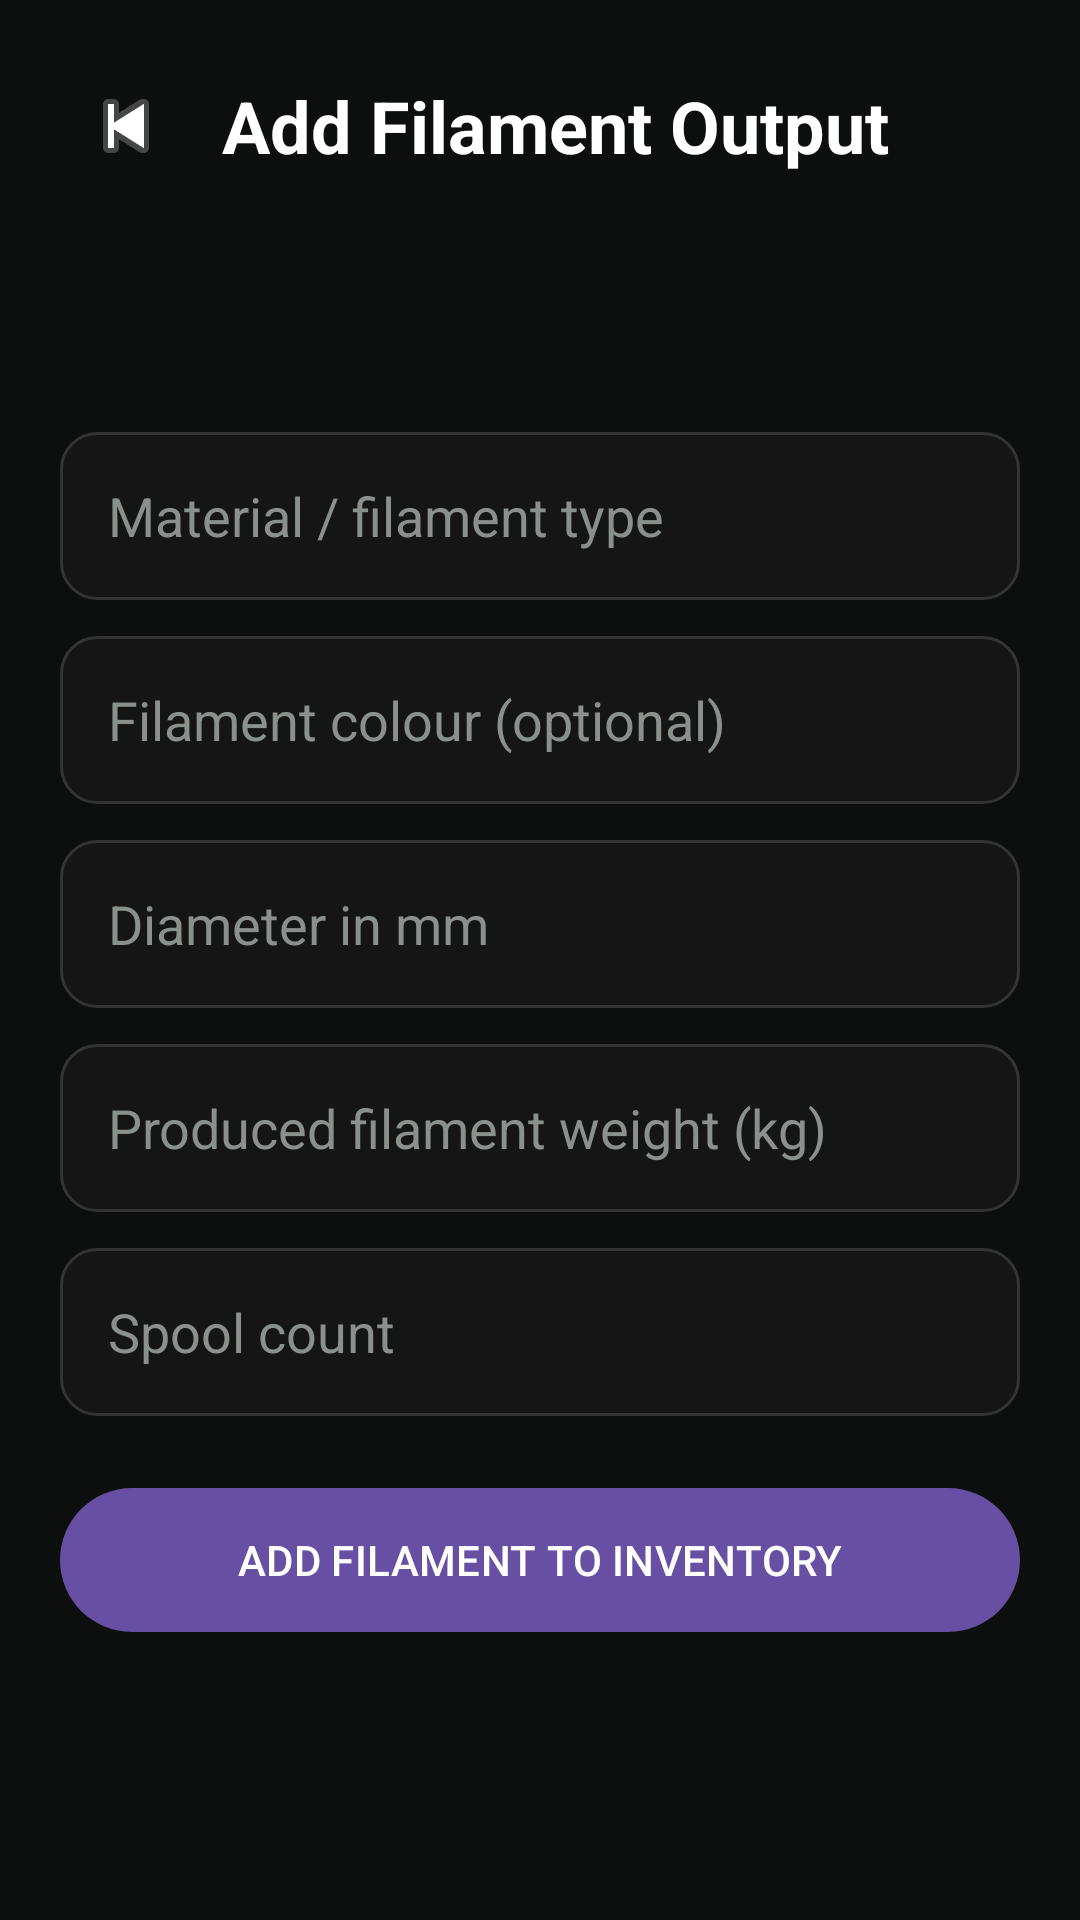

Locate icon controls on the screen. Image size 1080px×1920px, boxes as (left=x1, top=y1, right=x2, bottom=y2).
Back: (left=103, top=99, right=149, bottom=153)
